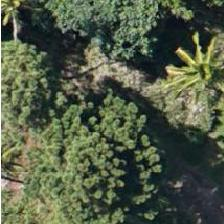Kelapa_Sawit: (156, 28, 224, 118)
